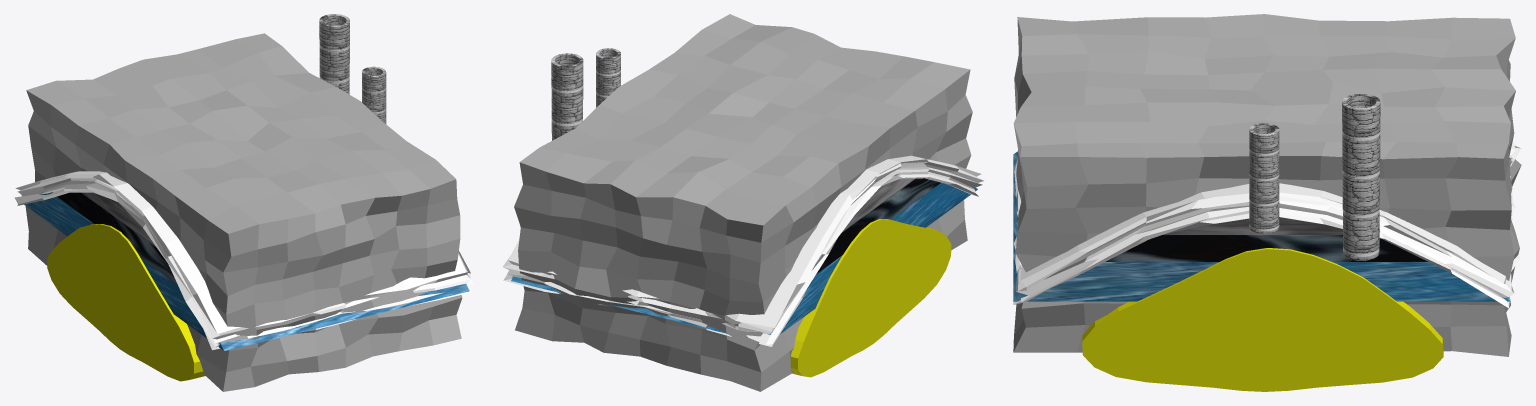
The model's file is well underground earthblenr uncut.gltf.
3 renders of one model, left to right at view 1: azimuth 30°, elevation 25°; view 2: azimuth 150°, elevation 25°; view 3: azimuth 270°, elevation 25°, orthographic. The views are drawn at different scales.
Visible parts, largest first — view 1: Cube, Cylinder, Cube.001, Cube.004, Cylinder.002, Cube.003, Cylinder.001, Cube.002; view 2: Cube, Cylinder, Cube.001, Cube.004, Cylinder.002, Cube.003, Cylinder.001, Cube.002; view 3: Cube, Cylinder, Cube.001, Cube.004, Cylinder.002, Cube.003, Cylinder.001, Cube.002.
Boxes of the visible parts, <box> form: Cube: <box>25,33,462,391</box>; Cylinder: <box>47,224,205,381</box>; Cube.001: <box>14,171,472,350</box>; Cube.004: <box>24,192,469,350</box>; Cylinder.002: <box>319,14,349,94</box>; Cube.003: <box>51,192,177,284</box>; Cylinder.001: <box>362,66,386,123</box>; Cube.002: <box>82,192,156,247</box>; Cube: <box>514,14,972,391</box>; Cylinder: <box>790,219,951,377</box>; Cube.001: <box>503,155,983,346</box>; Cube.004: <box>511,183,977,334</box>; Cylinder.002: <box>551,53,583,140</box>; Cube.003: <box>816,178,940,273</box>; Cylinder.001: <box>596,48,620,107</box>; Cube.002: <box>842,174,914,232</box>; Cube: <box>1013,14,1521,356</box>; Cylinder: <box>1082,248,1443,391</box>; Cube.001: <box>1013,140,1521,308</box>; Cube.004: <box>1013,151,1509,301</box>; Cylinder.002: <box>1342,94,1380,260</box>; Cube.003: <box>1105,235,1427,261</box>; Cylinder.001: <box>1249,123,1279,233</box>; Cube.002: <box>1163,217,1342,234</box>.
Size of the model in its own units: 22.24 by 18.4 by 28.96.
Materials: 7 (4 with a texture image).
